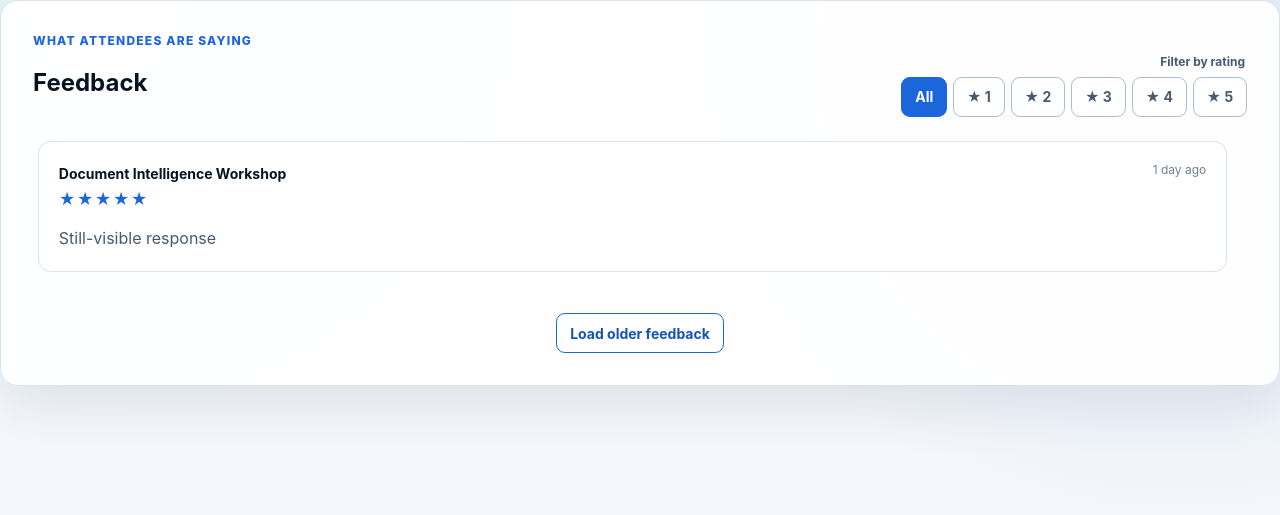
Scenario: FeedbackStream › retains feedback after pagination failure and retries the same cursor
The width and height of the screenshot is (1280, 515).
Expected: the text "Still-visible response" is shown, [59, 228, 216, 248]
Click the button "Load older feedback" at (640, 333), box [556, 313, 724, 353]
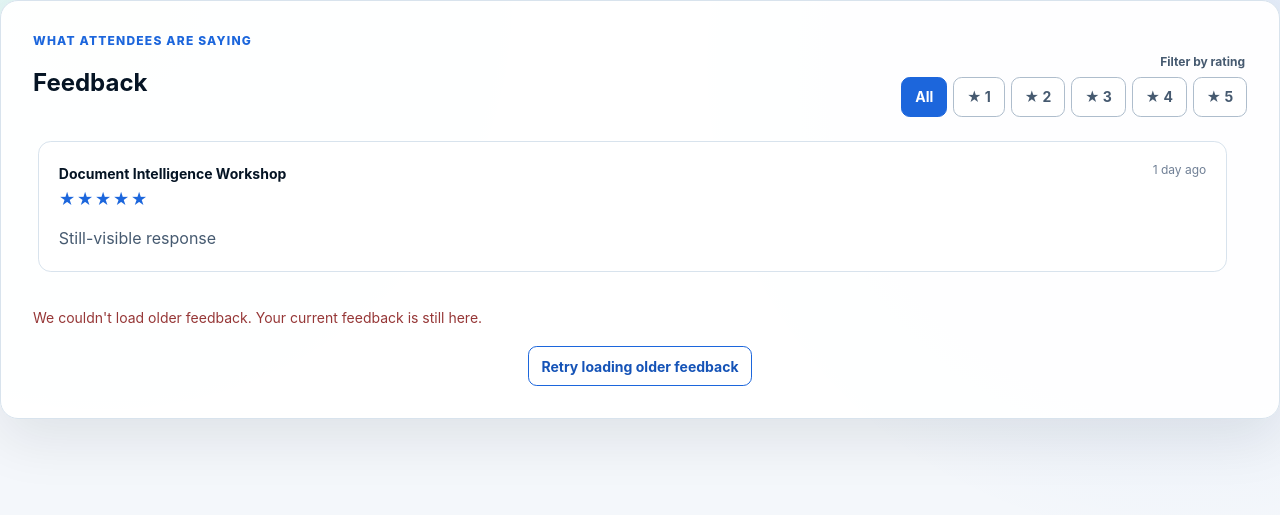
Expected: the text "Still-visible response" is shown, [59, 228, 216, 248]
Expected: the text "We couldn't load older feedback. Your current feedback is still here." is shown, [33, 309, 482, 326]
Click the button "Retry loading older feedback" at (640, 366), box [528, 346, 752, 386]
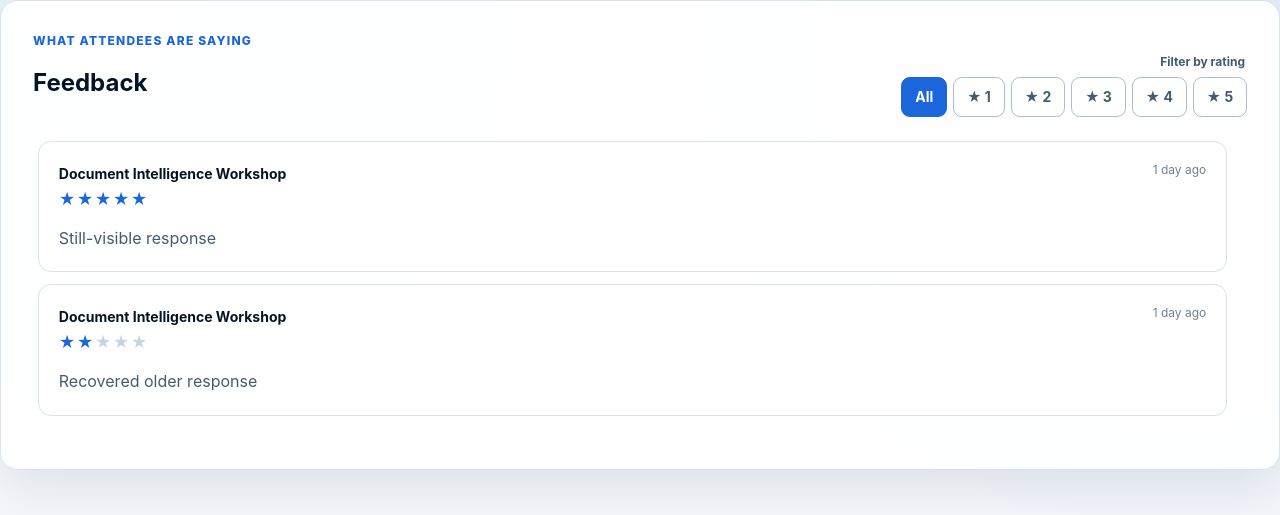
Expected: the text "Recovered older response" is shown, [59, 371, 257, 391]
Expected: the message "We couldn't load older feedback. Your current feedback is still here." is gone
